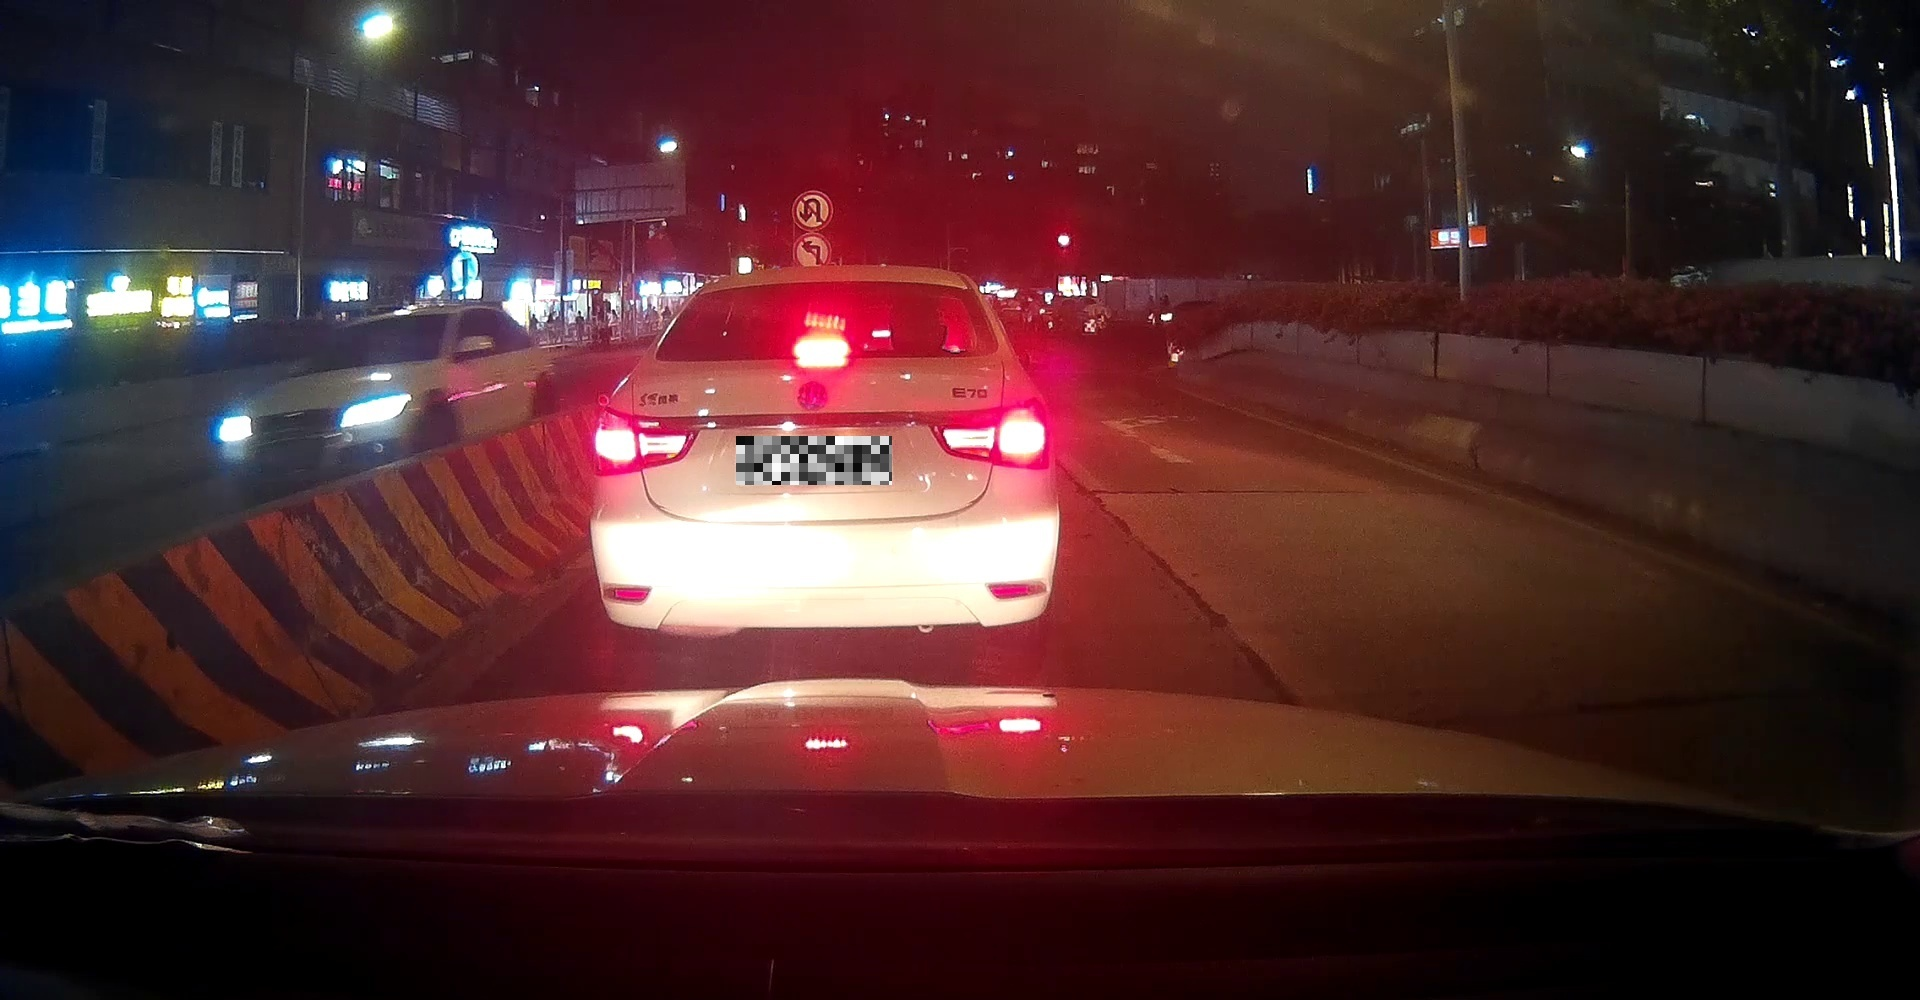L_light: (594, 404, 698, 475)
R_light: (930, 398, 1050, 470)
T_light: (792, 338, 851, 358)
night-brake: (589, 265, 1059, 668)
plate_1: (737, 437, 891, 485)
